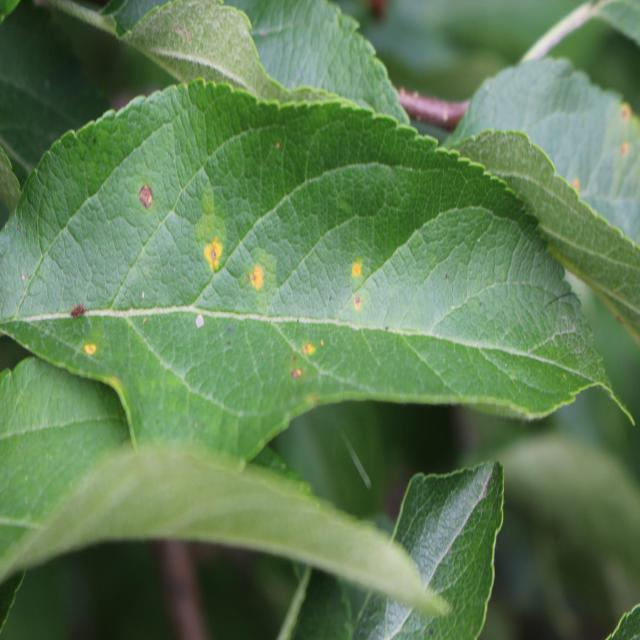Rust: (188, 228, 234, 278), (240, 251, 266, 307), (336, 290, 372, 320), (339, 241, 365, 282), (74, 339, 103, 364), (292, 332, 316, 360)
